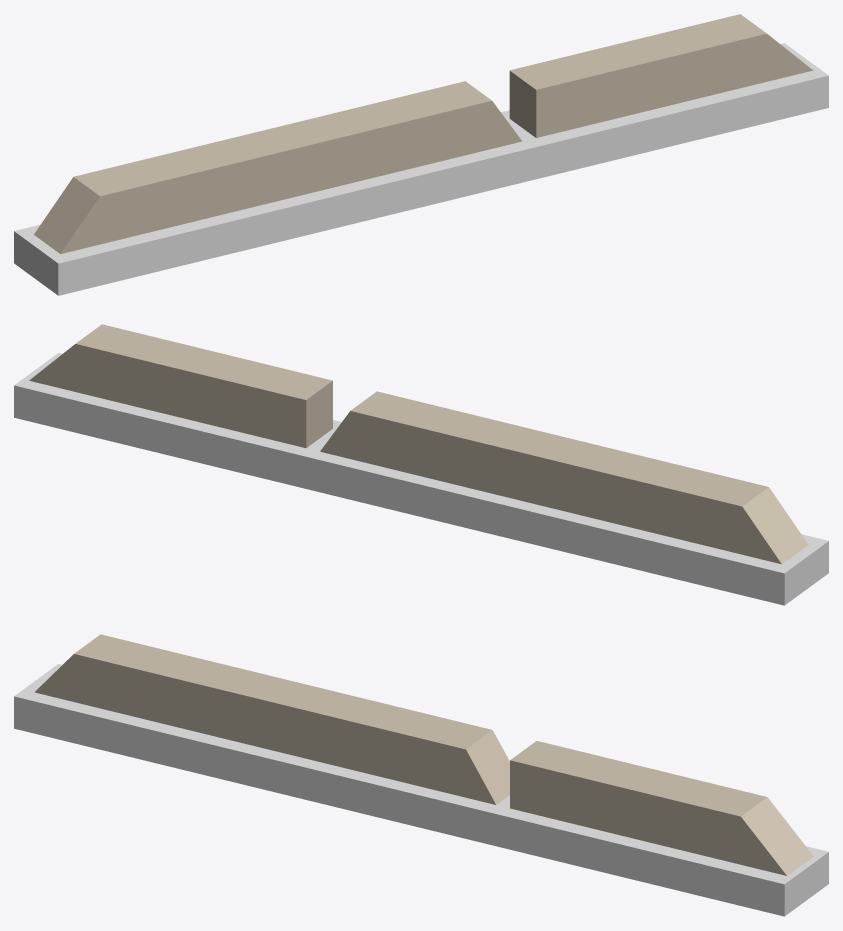
Rendered from Rail_Petit.FBX.
The picture shows the model from 3 angles, top to bottom: view 1: azimuth 30°, elevation 25°; view 2: azimuth 150°, elevation 25°; view 3: azimuth 330°, elevation 25°; orthographic projection.
Visible parts, largest first — view 1: Box477, Box476, Box475; view 2: Box477, Box476, Box475; view 3: Box477, Box476, Box475.
Boxes of the visible parts, x1,y1,x2,y2 form: Box477: (14, 43, 828, 295); Box476: (34, 81, 522, 253); Box475: (509, 14, 812, 137); Box477: (14, 353, 828, 605); Box476: (320, 391, 808, 564); Box475: (29, 324, 332, 447); Box477: (14, 664, 828, 916); Box476: (34, 634, 509, 804); Box475: (510, 741, 813, 875).
Size of the model in its own units: 197 by 19.64 by 19.69.
